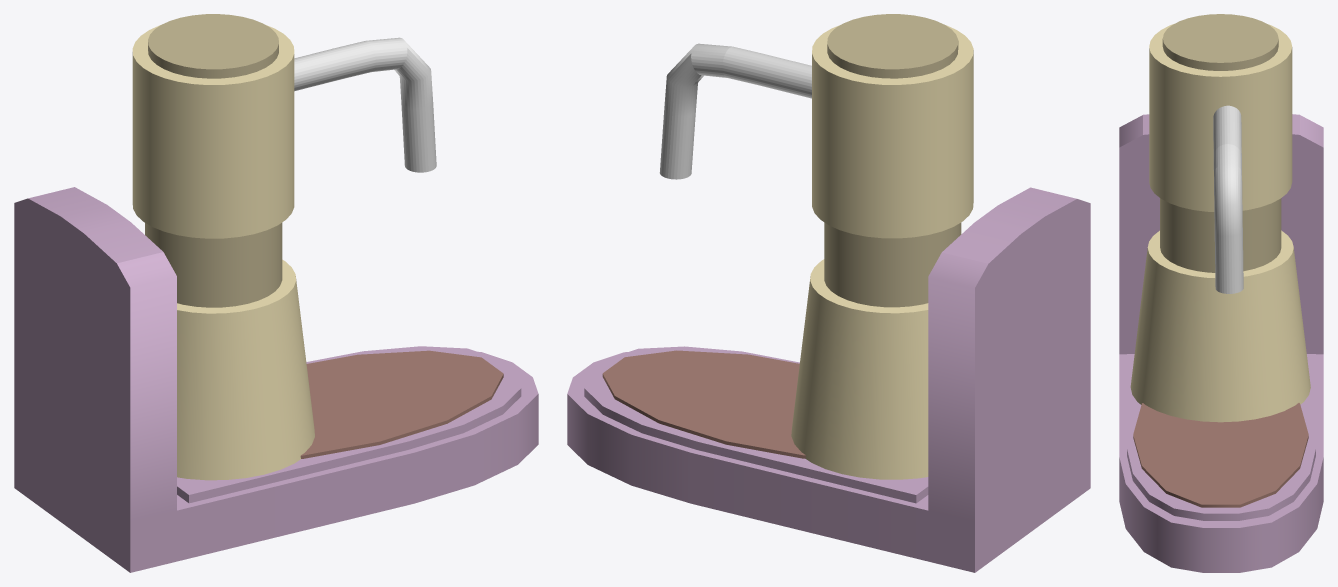
File: SyrupMachineV.fbx
3 renders of one model, left to right at view 1: azimuth 30°, elevation 25°; view 2: azimuth 150°, elevation 25°; view 3: azimuth 270°, elevation 25°, orthographic. The views are drawn at different scales.
Visible parts, largest first — view 1: Cube.005, Cylinder.016, Cylinder.018, Circle.002, Cylinder.017, Cylinder.019, Cylinder.015; view 2: Cube.005, Cylinder.016, Cylinder.018, Circle.002, Cylinder.017, Cylinder.019, Cylinder.015; view 3: Cube.005, Cylinder.018, Cylinder.016, Circle.002, Cylinder.017, Cylinder.015, Cylinder.019.
Part boxes in pixels (left/top/right/bottom): Cube.005: left=14, top=187, right=538, bottom=572; Cylinder.016: left=132, top=25, right=294, bottom=238; Cylinder.018: left=177, top=259, right=314, bottom=480; Circle.002: left=300, top=350, right=503, bottom=458; Cylinder.017: left=145, top=222, right=282, bottom=307; Cylinder.019: left=294, top=37, right=436, bottom=172; Cylinder.015: left=148, top=14, right=278, bottom=78; Cube.005: left=567, top=187, right=1090, bottom=572; Cylinder.016: left=812, top=25, right=973, bottom=238; Cylinder.018: left=791, top=259, right=928, bottom=479; Circle.002: left=602, top=350, right=806, bottom=458; Cylinder.017: left=824, top=222, right=961, bottom=307; Cylinder.019: left=659, top=43, right=811, bottom=179; Cylinder.015: left=827, top=14, right=958, bottom=78; Cube.005: left=1119, top=114, right=1323, bottom=572; Cylinder.018: left=1130, top=230, right=1310, bottom=422; Cylinder.016: left=1149, top=24, right=1292, bottom=211; Circle.002: left=1133, top=403, right=1308, bottom=507; Cylinder.017: left=1160, top=198, right=1281, bottom=272; Cylinder.015: left=1162, top=14, right=1278, bottom=70; Cylinder.019: left=1213, top=105, right=1243, bottom=293.
Size of the model in its own units: 567 by 547 by 253.
